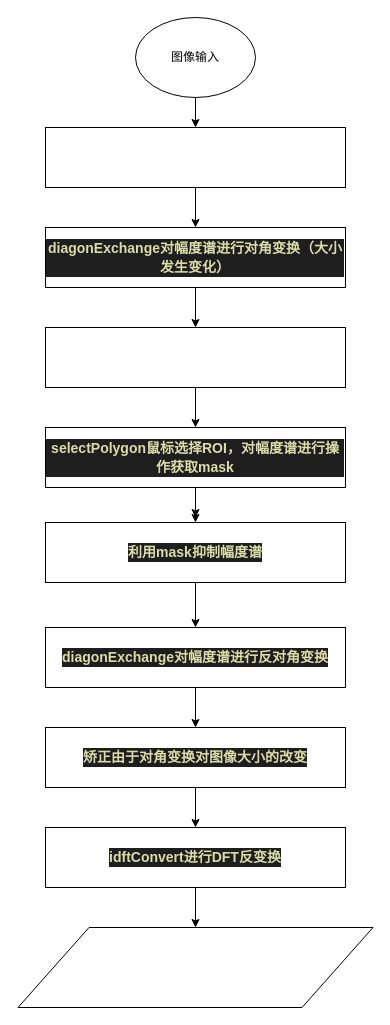
The diagram is 390 pixels wide and 1025 high, and some of its shapes have lost their labels. Each missing label, with the centre of its shape:
dftConvert获取幅度谱和相位谱: the point at 195,157
dftNormalize对幅度谱进行归一化，方便可视化: the point at 195,357
输出滤波后的图像: the point at 195,967
